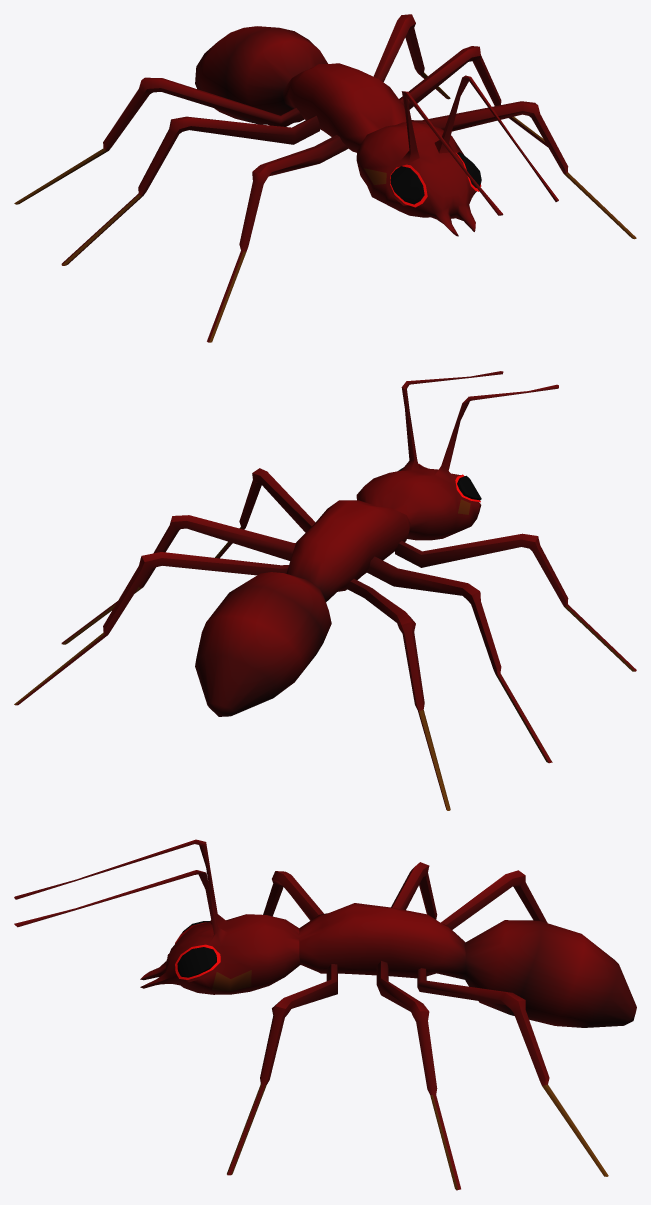
Rendered from Insects_FireAnt.fbx.
3 views of the same model, one above another, from view 1: azimuth 30°, elevation 25°; view 2: azimuth 150°, elevation 25°; view 3: azimuth 270°, elevation 25° (orthographic).
Visible parts, largest first — view 1: base (×2); view 2: base (×2); view 3: base (×2).
Boxes of the visible parts, left/top/right/bottom form: base (×2): left=14, top=14, right=636, bottom=342; base (×2): left=14, top=371, right=636, bottom=810; base (×2): left=14, top=839, right=636, bottom=1190.
Bounding box in the file's own units: 142 × 60.13 × 157.
